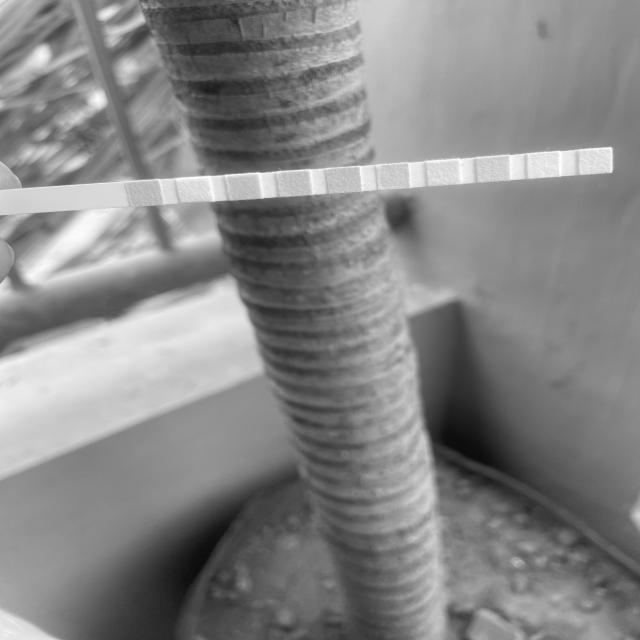Bilirubin: (181, 179, 208, 202)
Blood: (329, 169, 359, 192)
Glucose: (132, 182, 159, 205)
Ketone: (231, 176, 258, 199)
Leukocytes: (580, 151, 612, 173)
Nitrite: (528, 154, 558, 177)
Protein: (429, 162, 458, 184)
SpGravity: (281, 172, 309, 196)
Urobilinogen: (478, 158, 509, 180)
background: (0, 0, 640, 640)
pH: (379, 165, 408, 188)
strip: (1, 147, 613, 216)
